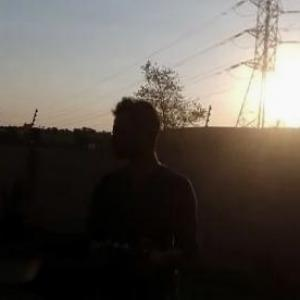follow: (71, 88, 199, 299)
